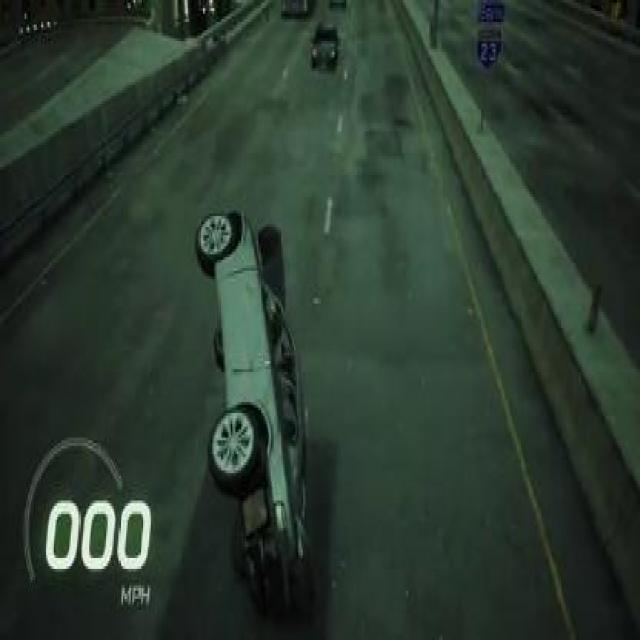accident: (192, 197, 328, 615)
